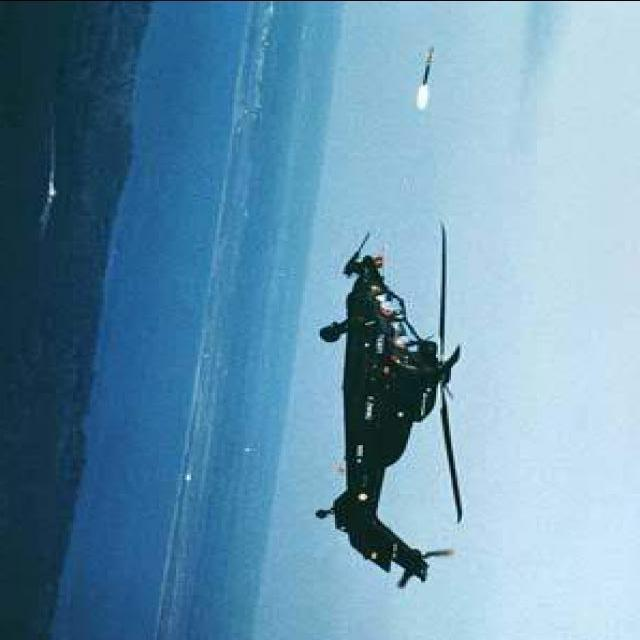missile: (418, 42, 439, 86)
